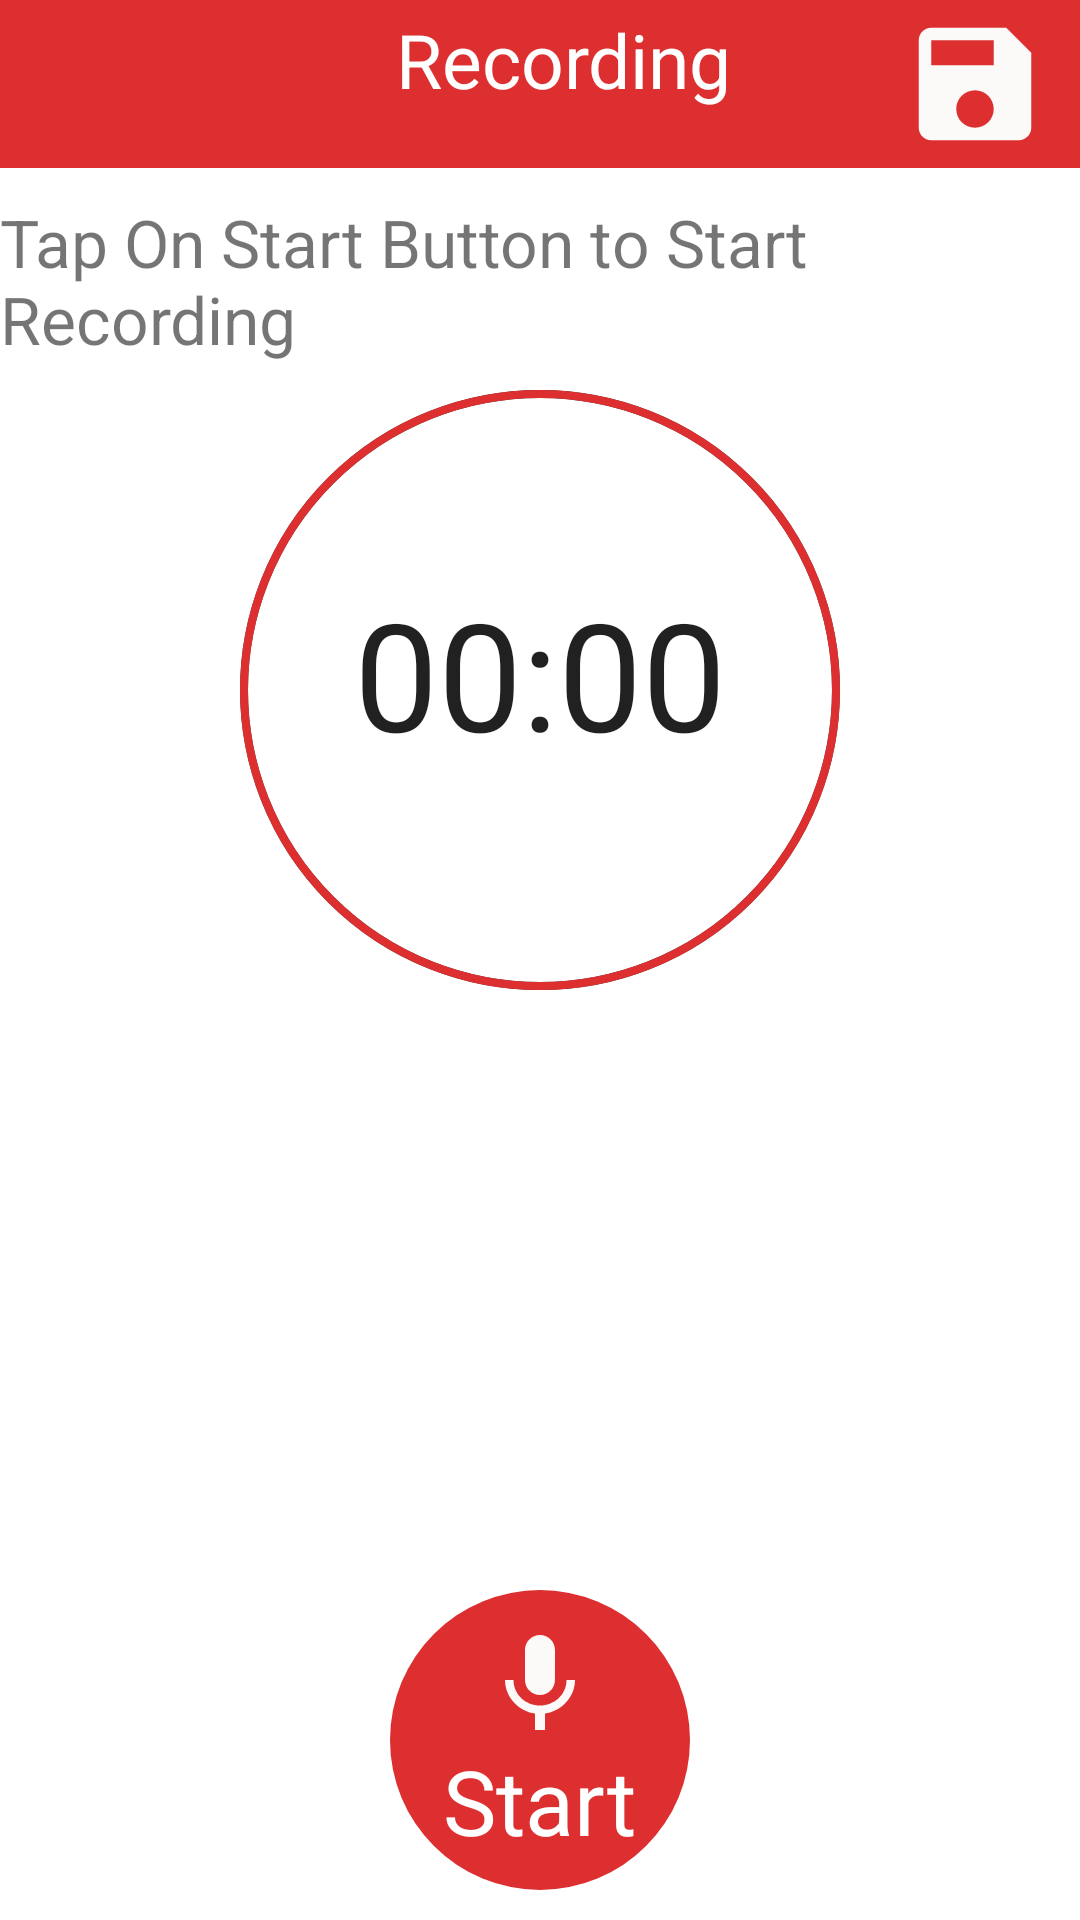

Point at icon controls on the screen. Image size 1080px x 1920px, points as (x=x, y=y).
keyboard voice: (x=540, y=1682)
save: (x=975, y=84)
